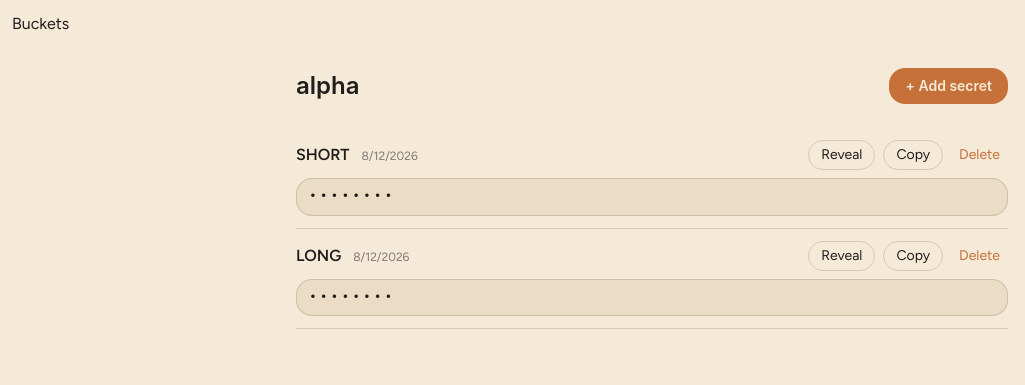
Scenario: invariant 7: the list never fetches a value › shows the same mask for a short value and a long one
Click the button with aria-label "reveal SHORT" at (842, 155), box [808,140,875,170]
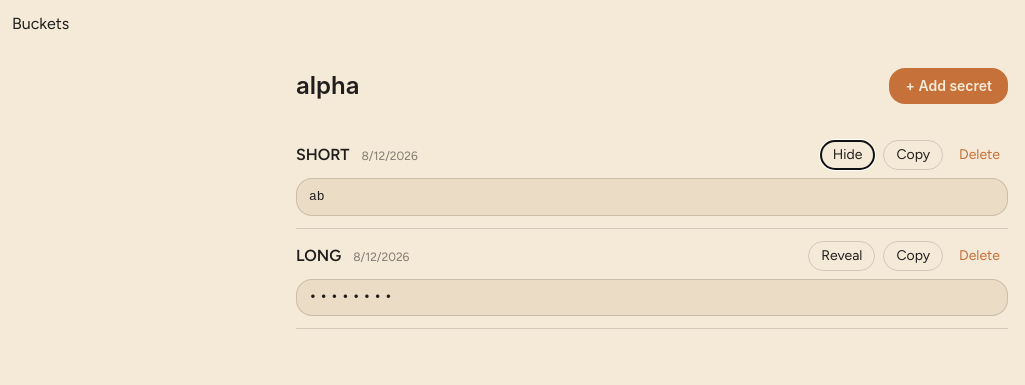
Check: the text "ab" is shown, box [296,178,1008,216]
Click the button with aria-label "reveal LONG" at (842, 256), box [808,240,875,270]
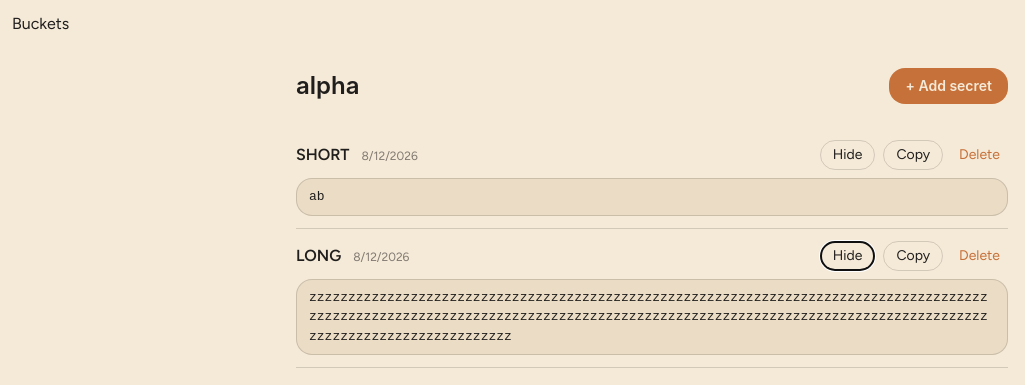
Click the button with aria-label "hide SHORT" at (848, 155), box [820,140,875,170]
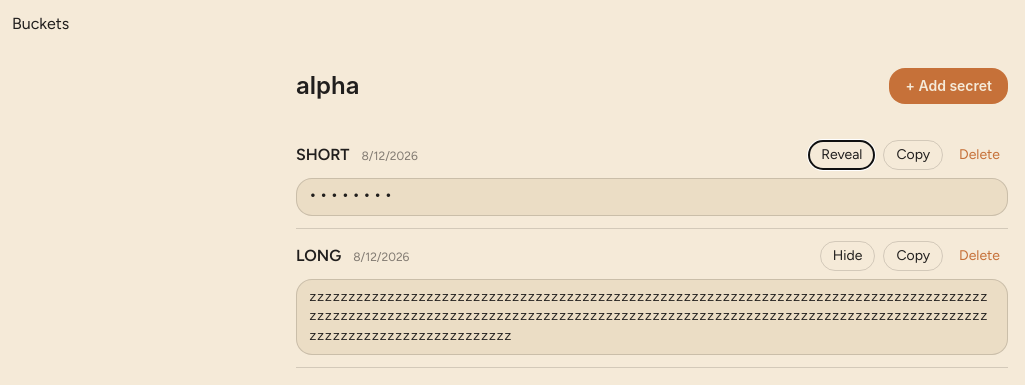
Click the button with aria-label "hide LONG" at (848, 256), box [820,240,875,270]
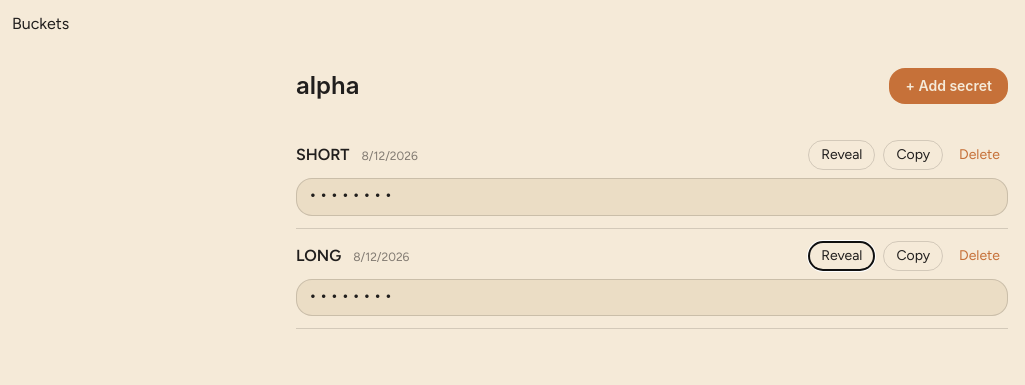
Check: the text "••••••••" below "SHORT" is shown, box [309,189,395,204]
Check: the text "•" no longer shows "z"
